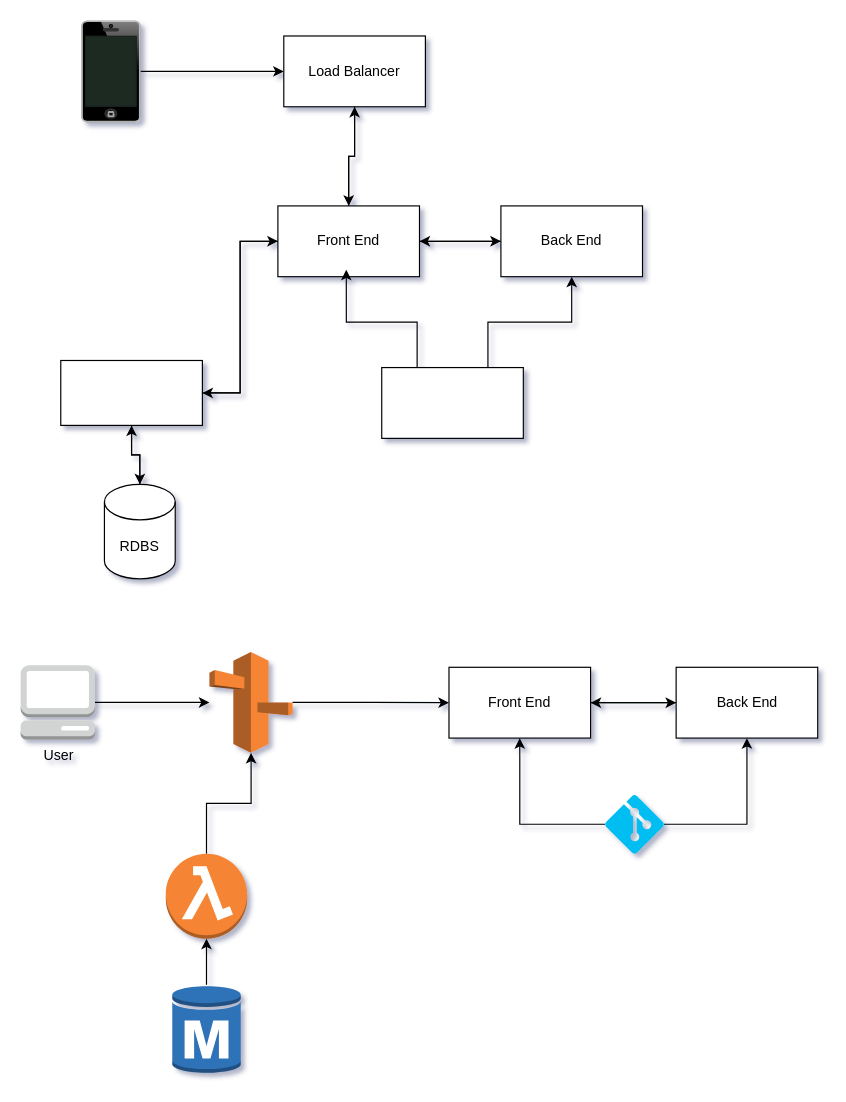
This 846x1102 diagram has some shape labels left out. The box of each missing label's shape, as (x1, y1, x2, y2) in pixels:
Code Repo Github: (381, 366, 523, 438)
Counter: (60, 359, 202, 425)
GitHub Repo: (604, 794, 663, 853)
